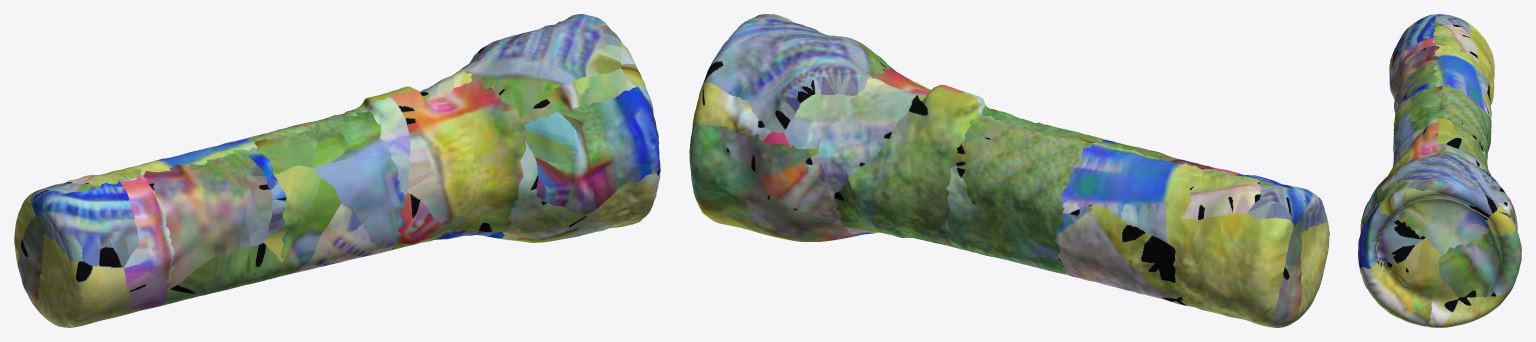
The model's file is Flashlight_0822025200_preview.obj.
The picture shows the model from 3 angles, left to right: view 1: azimuth 30°, elevation 25°; view 2: azimuth 150°, elevation 25°; view 3: azimuth 270°, elevation 25°; orthographic projection. The views are drawn at different scales.
Parts seen in each view (by area): view 1: Mesh1; view 2: Mesh1; view 3: Mesh1.
Boxes of the visible parts, x1,y1,x2,y2 form: Mesh1: (14,14,660,327); Mesh1: (689,14,1329,327); Mesh1: (1358,14,1521,327).
Bounding box in the file's own units: 1.2 × 0.3954 × 0.4046.
